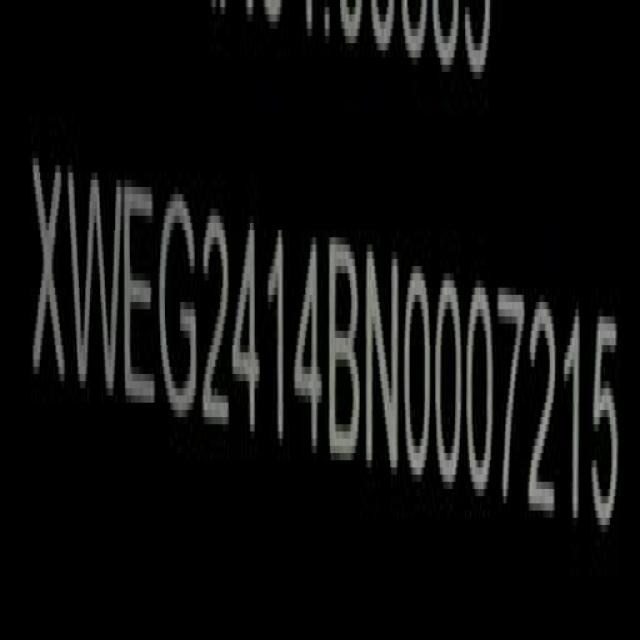0: (404, 258, 433, 488), (434, 277, 465, 487), (465, 288, 494, 500)
1: (563, 306, 582, 514), (268, 221, 286, 440)
2: (527, 277, 561, 530), (199, 186, 230, 440)
4: (231, 205, 263, 432), (294, 219, 324, 458)
5: (591, 317, 618, 527)
7: (496, 293, 524, 514)
B: (326, 226, 362, 464)
E: (122, 160, 156, 418)
G: (158, 189, 198, 421)
N: (362, 240, 401, 484)
W: (67, 162, 122, 389)
X: (31, 141, 66, 410)
